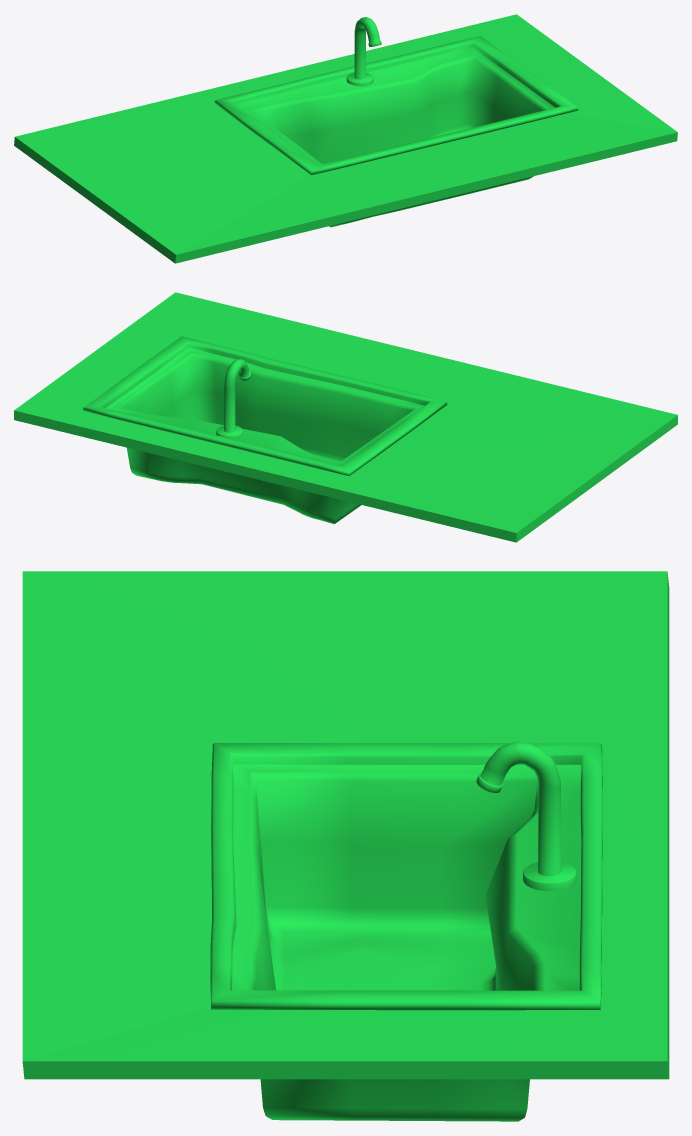
Rendered from Pia.fbx.
3 renders of one model, top to bottom at view 1: azimuth 30°, elevation 25°; view 2: azimuth 150°, elevation 25°; view 3: azimuth 270°, elevation 25°, orthographic. The views are drawn at different scales.
Visible parts, largest first — view 1: Circle.013; view 2: Circle.013; view 3: Circle.013.
Part boxes in pixels (left/top/right/bottom): Circle.013: left=14, top=14, right=677, bottom=263; Circle.013: left=14, top=292, right=677, bottom=542; Circle.013: left=22, top=571, right=669, bottom=1121.
Size of the model in its own units: 1981 by 535 by 1104.
